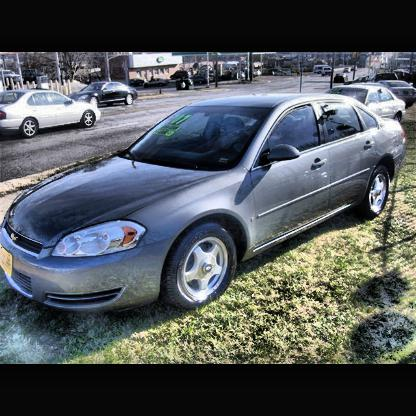Chevrolet Impala Sedan 2007: (2, 94, 406, 314)
